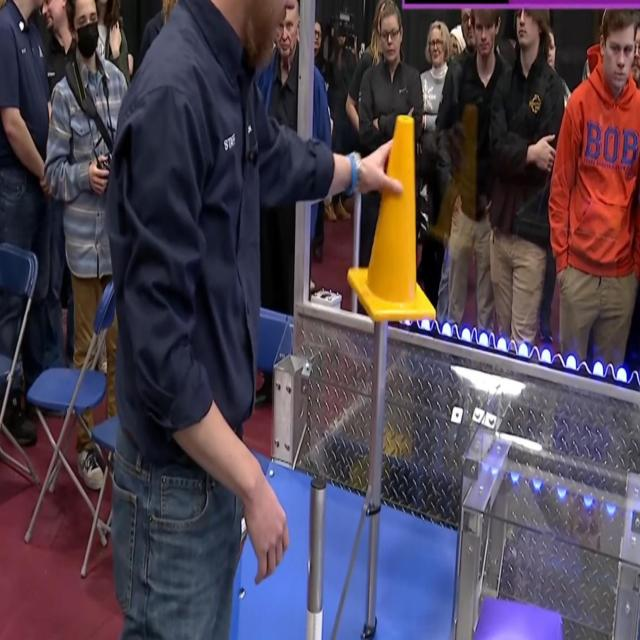frc_cone: (347, 118, 434, 323)
frc_cube: (466, 601, 565, 640)
